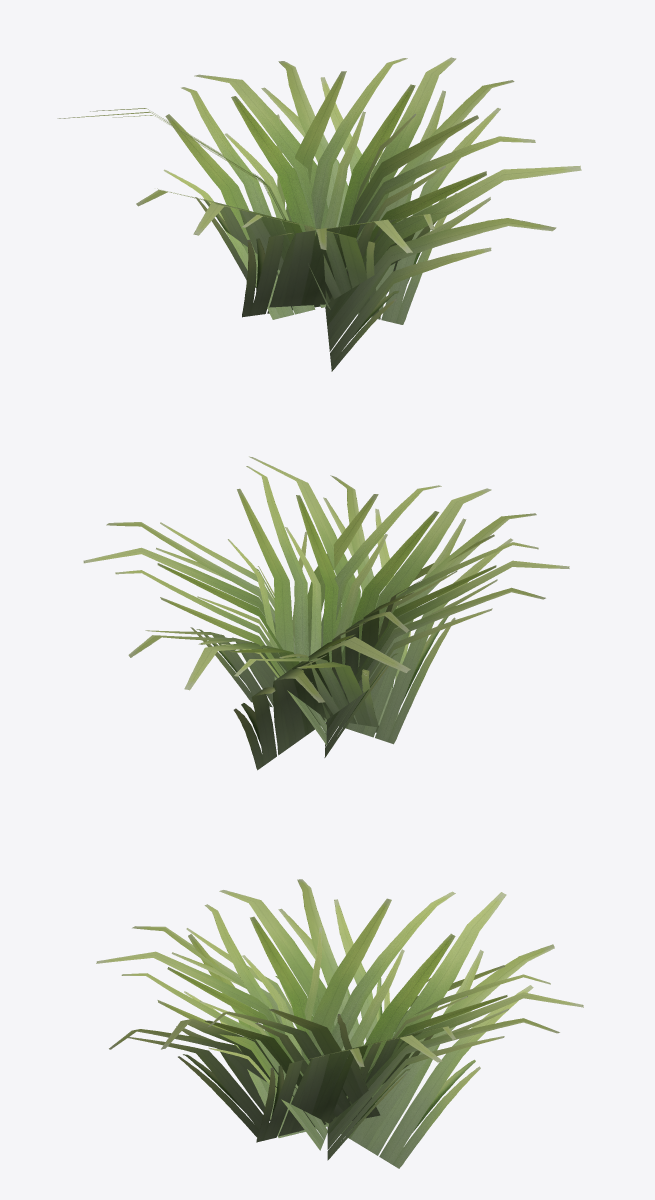
The model's file is Grass.fbx.
3 views of the same model, one above another, from view 1: azimuth 30°, elevation 25°; view 2: azimuth 150°, elevation 25°; view 3: azimuth 270°, elevation 25° (orthographic). The views are drawn at different scales.
Visible parts, largest first — view 1: Plane.006; view 2: Plane.006; view 3: Plane.006.
Boxes of the visible parts, box(x1,y1,x2,y2) form: Plane.006: box(57, 57, 581, 371); Plane.006: box(83, 456, 569, 770); Plane.006: box(96, 879, 583, 1168).
Bounding box in the file's own units: 73.84 × 30.5 × 73.6.
